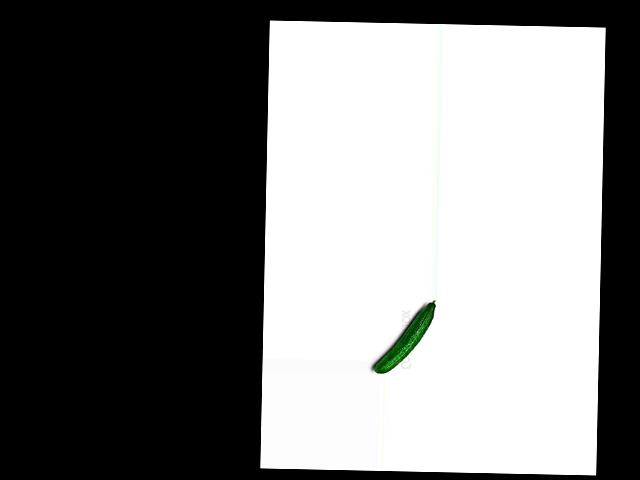cucumber: (373, 298, 435, 374)
